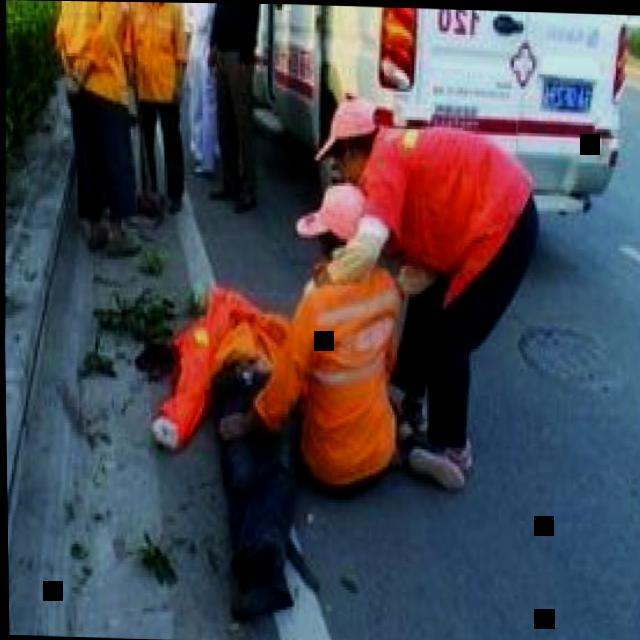Fall-Detected: (136, 191, 432, 491)
